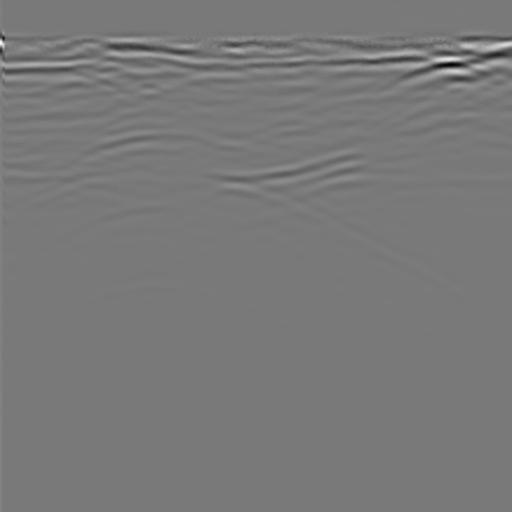hyperbola: (59, 122, 284, 240)
